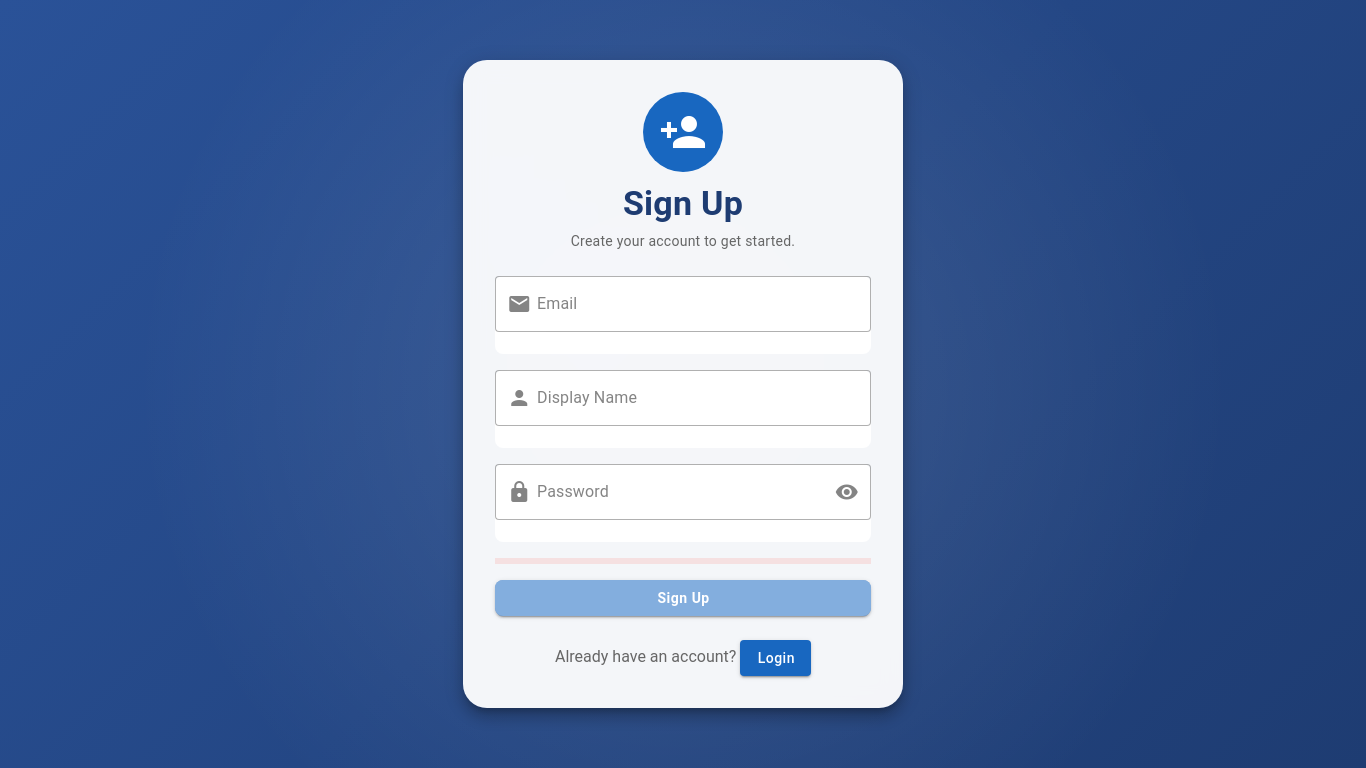
Test: SignUp.vue › validates email on blur
Type "invalid-email" into the field labelled "Email" at (695, 304), box left=531, top=276, right=859, bottom=332
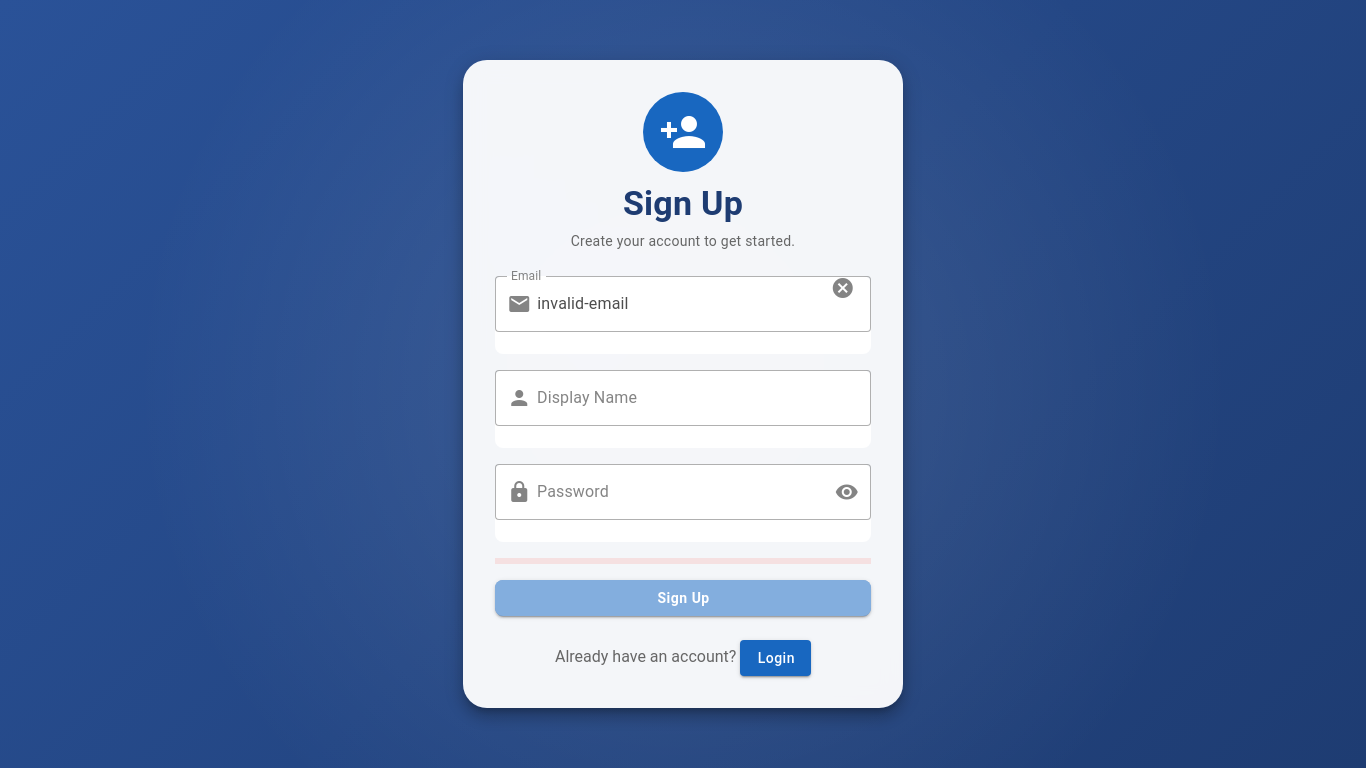
Leave the field labelled "Email", box left=531, top=276, right=827, bottom=332
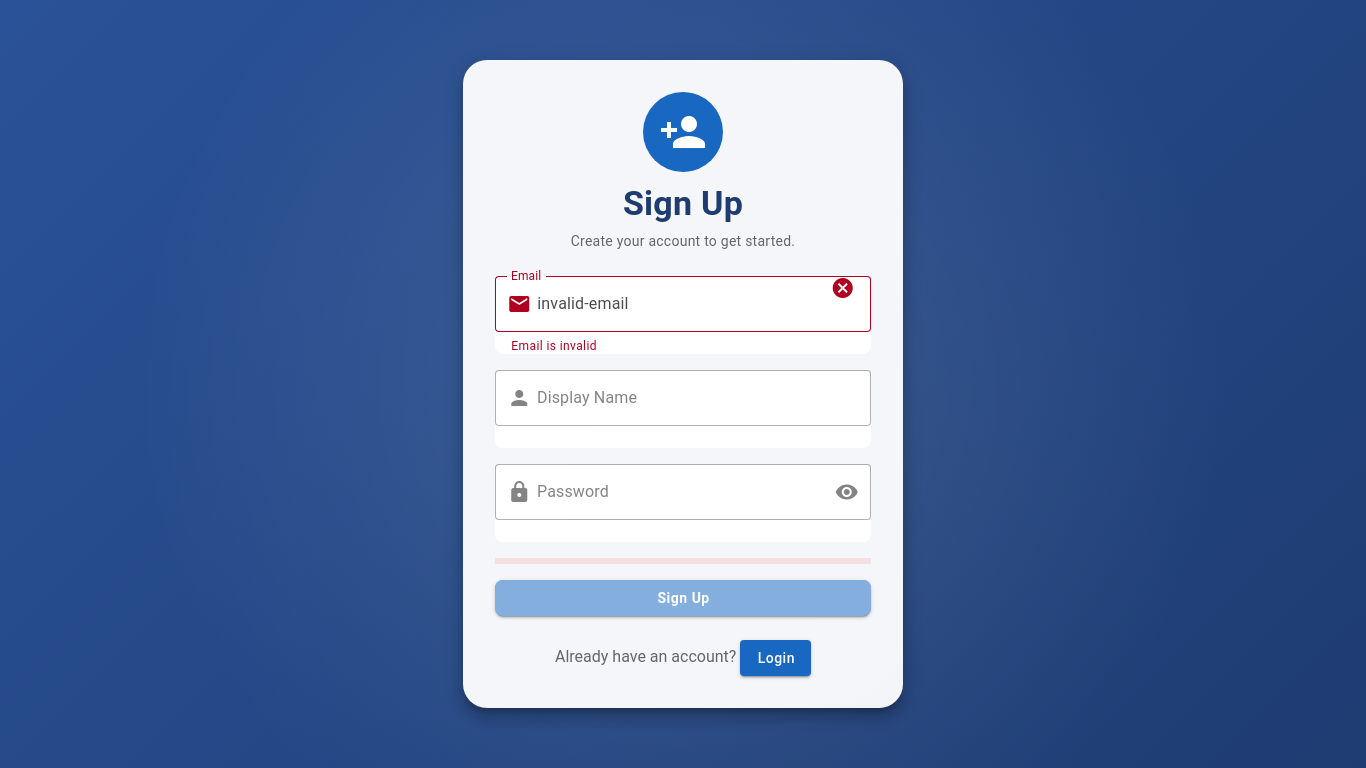
Result: the text "Email is invalid" is shown at left=511, top=339, right=597, bottom=353
